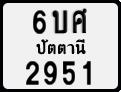letters: (71, 8, 89, 35), (23, 60, 41, 87), (51, 9, 69, 35), (32, 9, 48, 35), (42, 60, 58, 86), (61, 59, 76, 86), (82, 59, 93, 86)
province: (34, 38, 88, 56)
